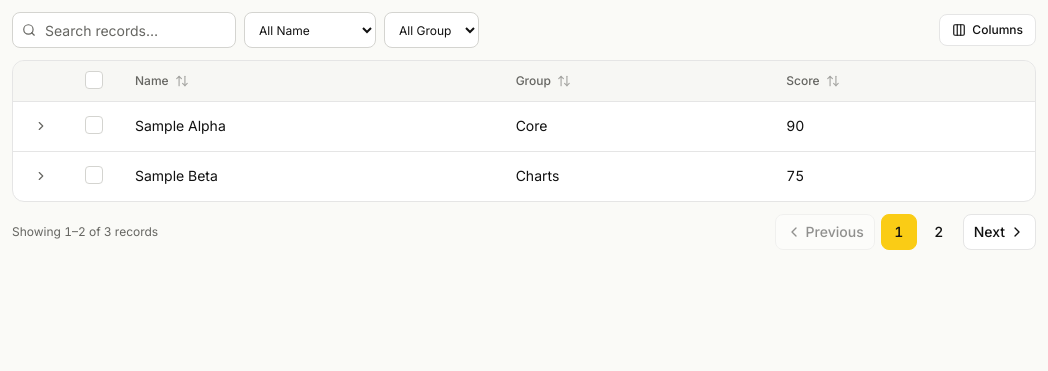
Test: Enterprise Components 2.0 (Shell, DataTable, Productivity, Forms, Feedback) › supports Advanced DataTable global search, filter chips, pagination, bulk actions, and row expansion
Expected: the text "Sample Alpha" is shown, [119,101,500,151]
Expected: the text "Sample Gamma" is not shown
Type "Gamma" into the search field with placeholder "Search records…" at (124, 30), box [12,12,236,48]
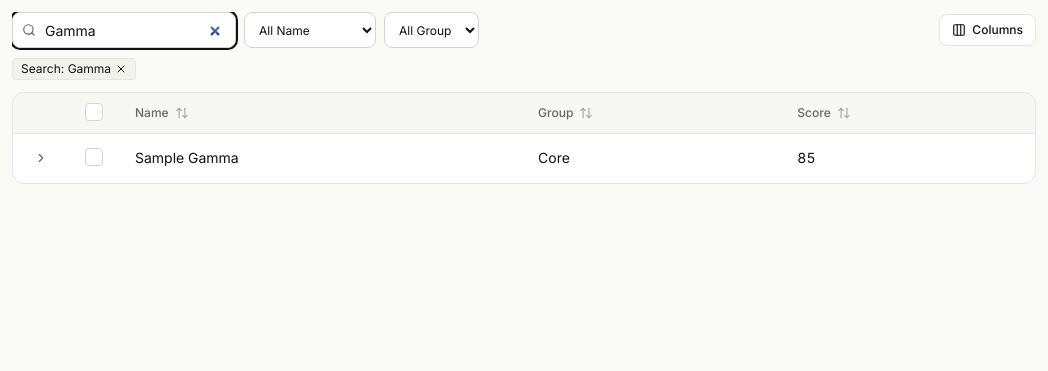
Expected: the text "Sample Gamma" is shown, [119,133,522,182]
Expected: the text "Sample Alpha" is gone
Clear the search field with placeholder "Search records…" at (124, 30), box [12,12,236,48]
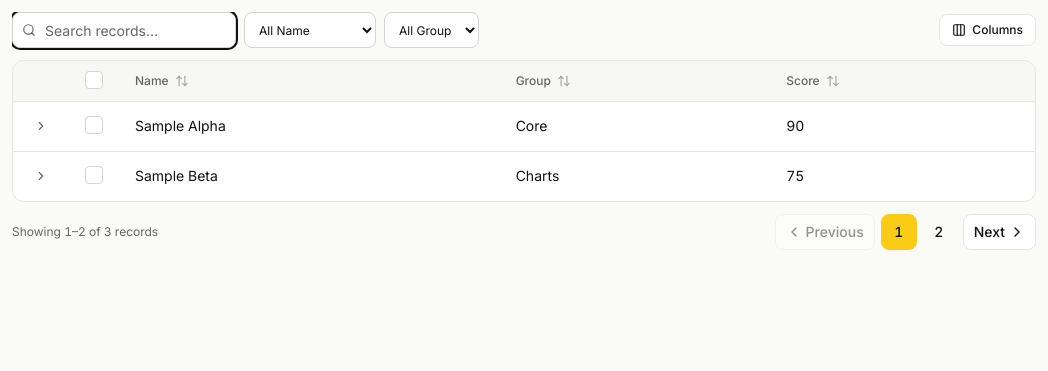
Click the checkbox named "Select row 1" at (94, 124), box [85,116,103,134]
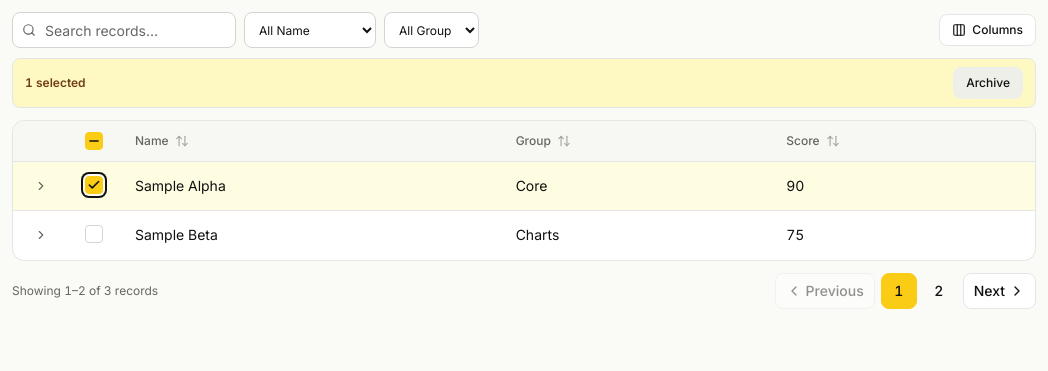
Click the button "Archive" at (988, 83), box [953,67,1023,99]
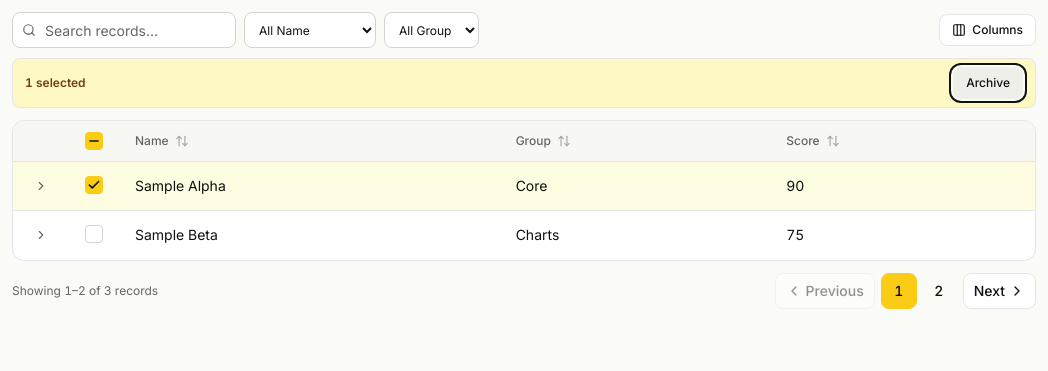
Click the button named "Expand row" at (41, 186), box [29,174,53,198]
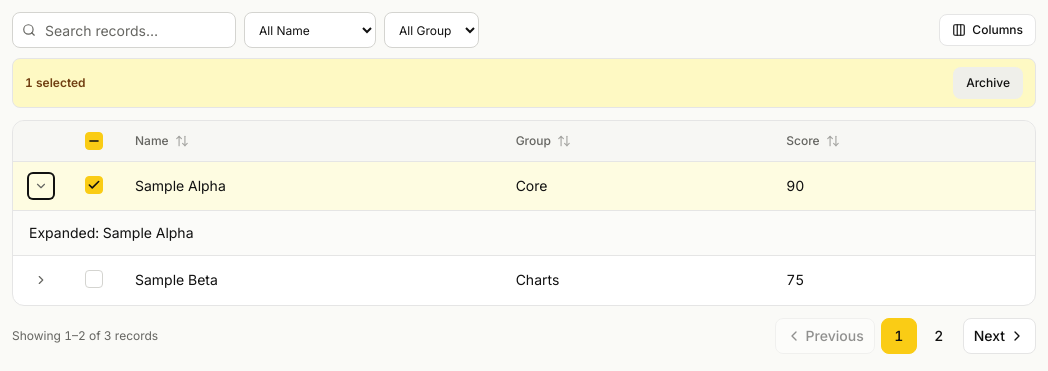
Expected: the text "Expanded: Sample Alpha" is shown, [29,224,194,240]
